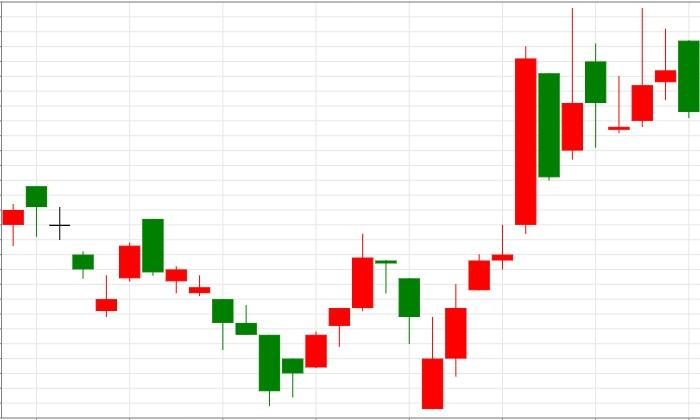three_white_soldiers_rise: (352, 233, 490, 409)
